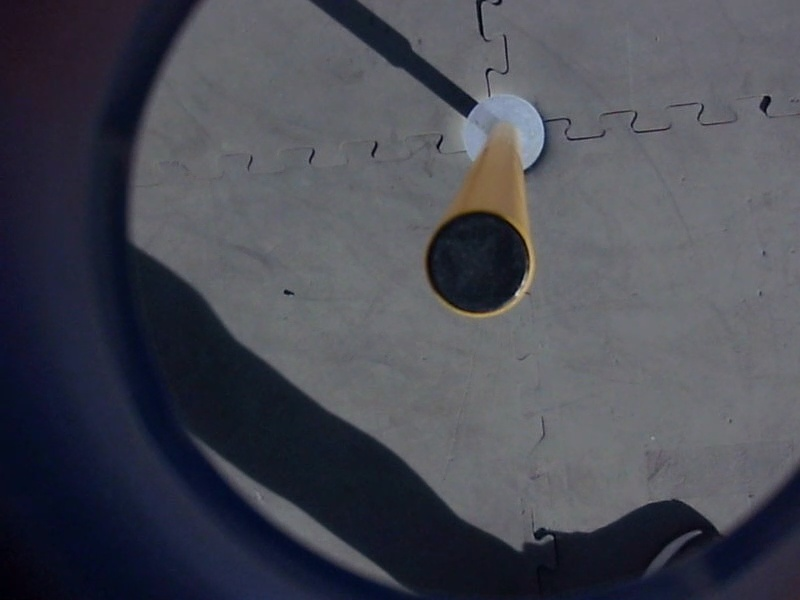tip: (416, 204, 539, 323)
